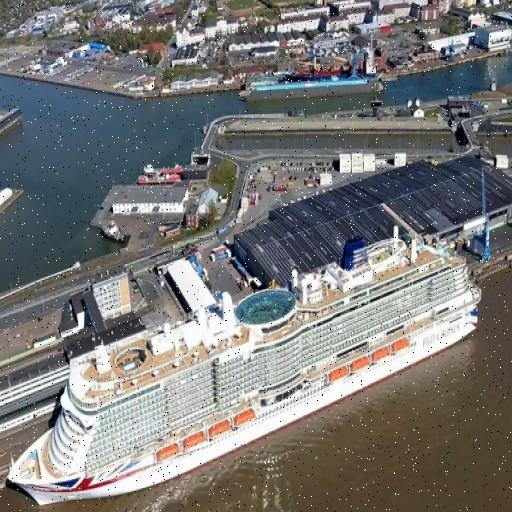cruises: (3, 222, 485, 512)
